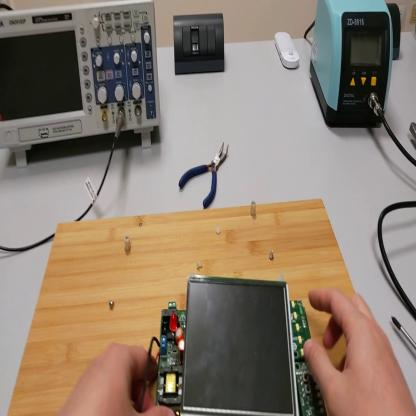hand: (304, 283, 412, 415), (61, 344, 174, 415)
low voltage board: (141, 301, 328, 416)
oscilloscope: (1, 4, 164, 170)
pliers: (180, 144, 230, 211), (410, 124, 416, 145)
screwdriver-: (393, 318, 416, 352)
socket: (387, 3, 400, 58)
welder station: (310, 3, 394, 129)
working area: (8, 197, 357, 415)
